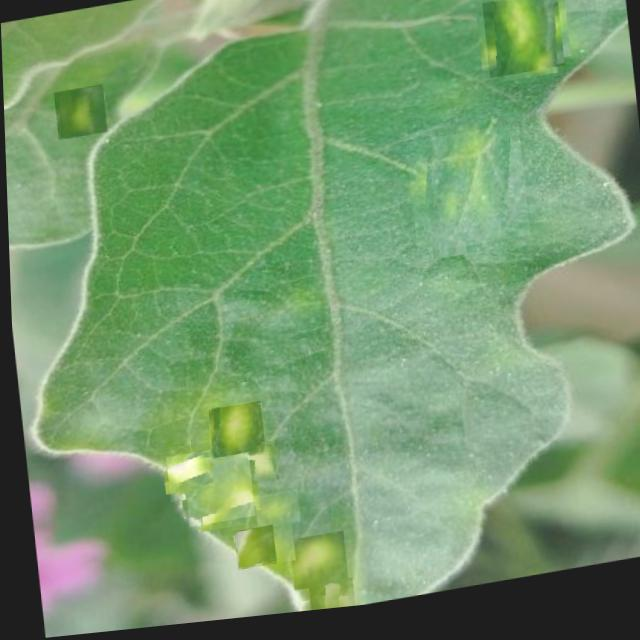leaf_spot: (404, 132, 528, 262), (481, 0, 563, 87), (179, 456, 251, 530), (285, 536, 343, 596), (205, 404, 261, 464), (53, 85, 106, 140), (162, 452, 211, 504), (228, 528, 272, 574), (236, 443, 279, 489), (250, 494, 296, 533), (251, 528, 291, 570), (303, 583, 350, 617)
